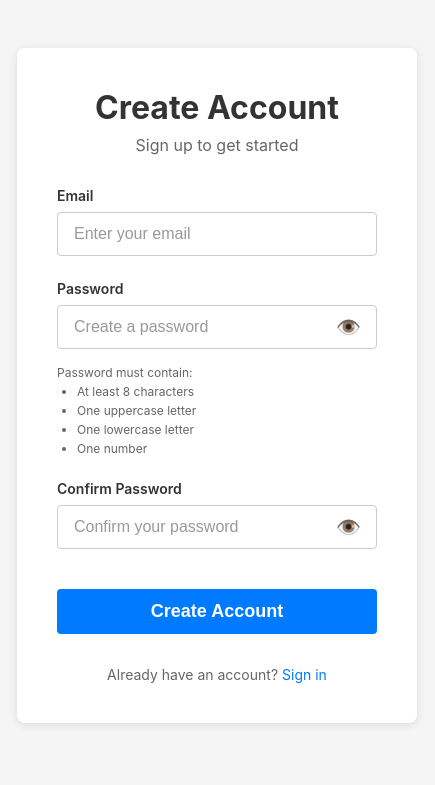
Test: Register Component › validates password confirmation match
The image size is (435, 785).
Type "Password123" into the password field labelled "Password" at [217, 326], box [57, 304, 377, 348]
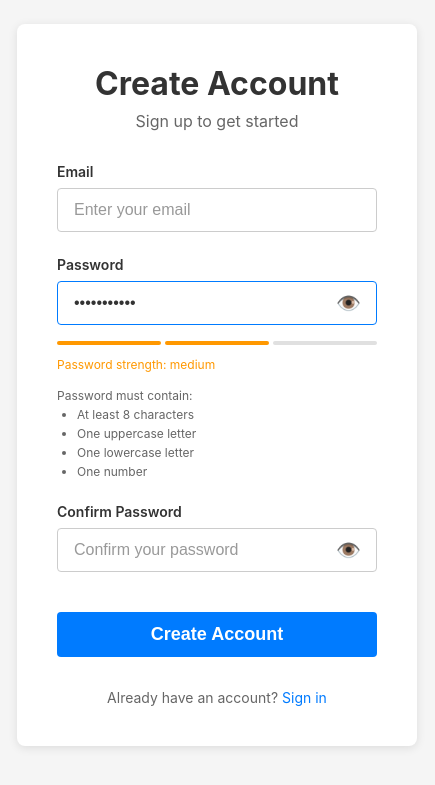
Type "DifferentPassword" into the password field labelled "Confirm Password" at [217, 550], box [57, 528, 377, 572]
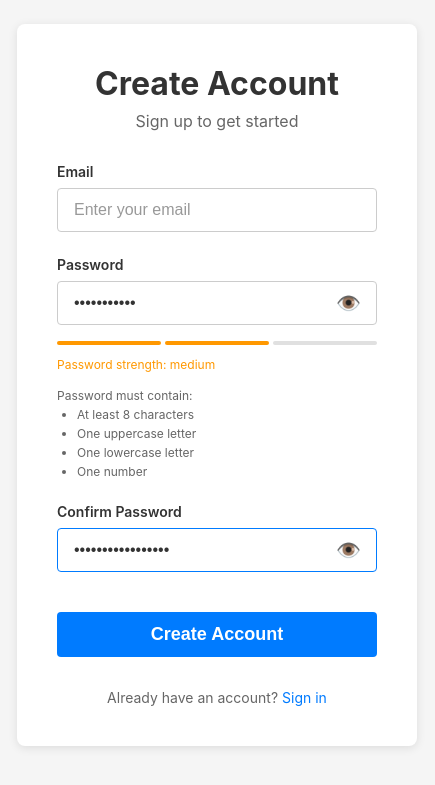
Click the button "Create Account" at [217, 634], box [57, 612, 377, 657]
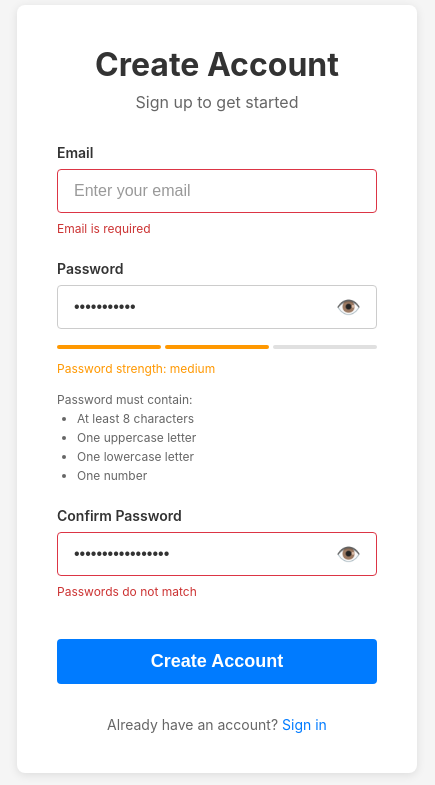
Check: the text "Passwords do not match" is shown, box [57, 584, 197, 599]
